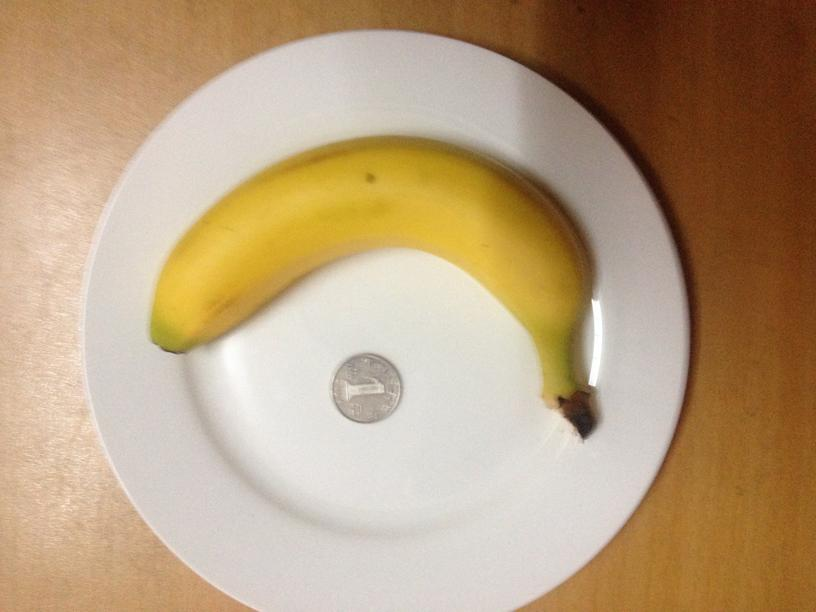banana: (156, 130, 589, 374)
coin: (326, 351, 401, 417)
